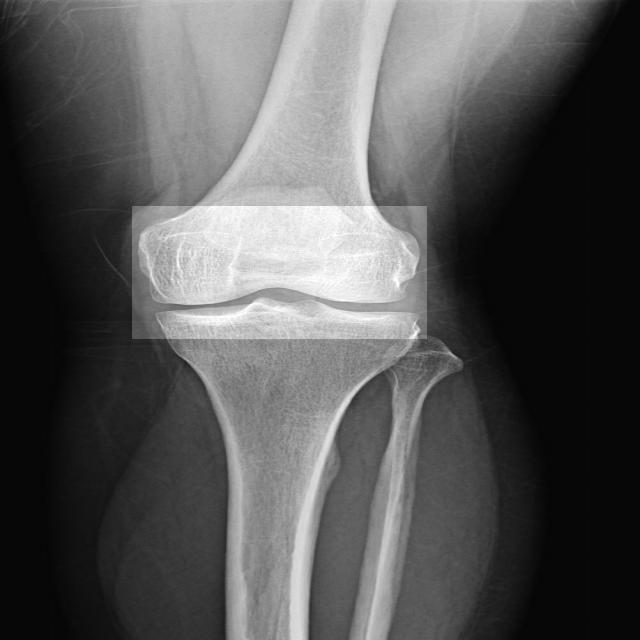osteo: (132, 206, 427, 339)
